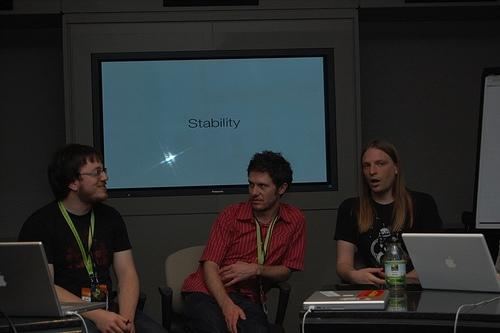apple: (445, 256, 456, 268), (0, 276, 7, 286)
